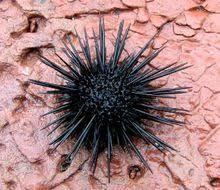urchin: (34, 22, 183, 172)
